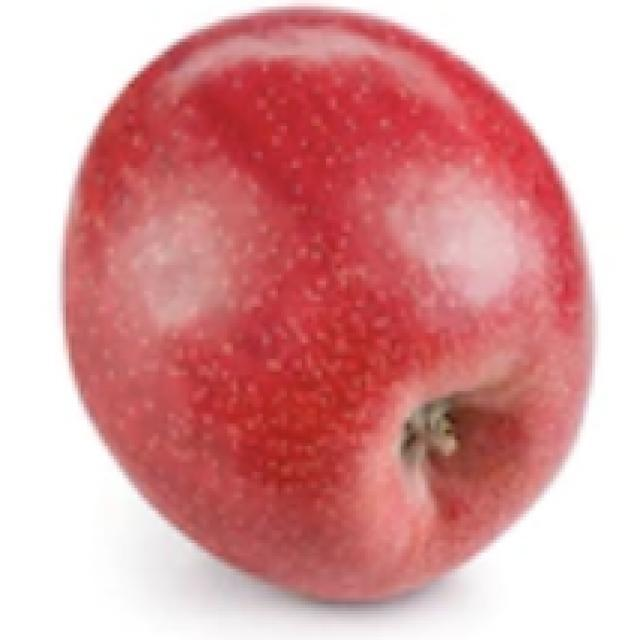Fresh Apple: (64, 18, 578, 602)
